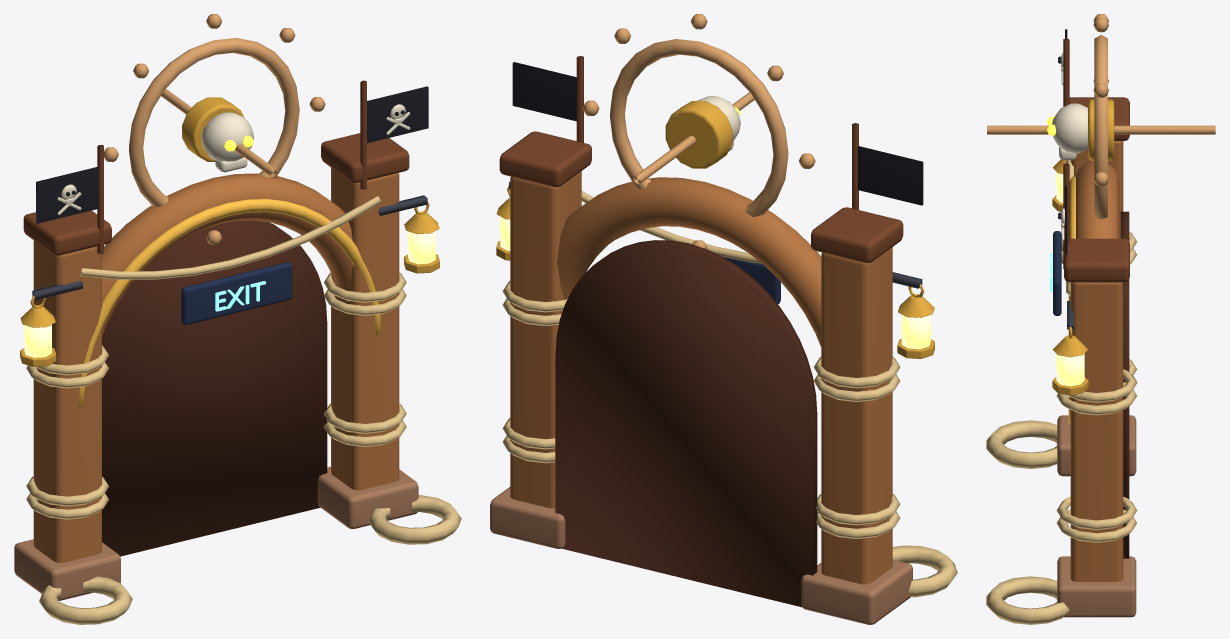
The model's file is cove_portal_arch.glb.
The picture shows the model from 3 angles, left to right: view 1: azimuth 30°, elevation 25°; view 2: azimuth 150°, elevation 25°; view 3: azimuth 270°, elevation 25°; orthographic projection. The views are drawn at different scales.
Parts seen in each view (by area): view 1: PortalArch; view 2: PortalArch; view 3: PortalArch.
Boxes of the visible parts, <box> form: PortalArch: <box>14,14,461,624</box>; PortalArch: <box>490,14,957,624</box>; PortalArch: <box>986,14,1215,624</box>.
Size of the model in its own units: 5.31 by 6.46 by 2.61.
